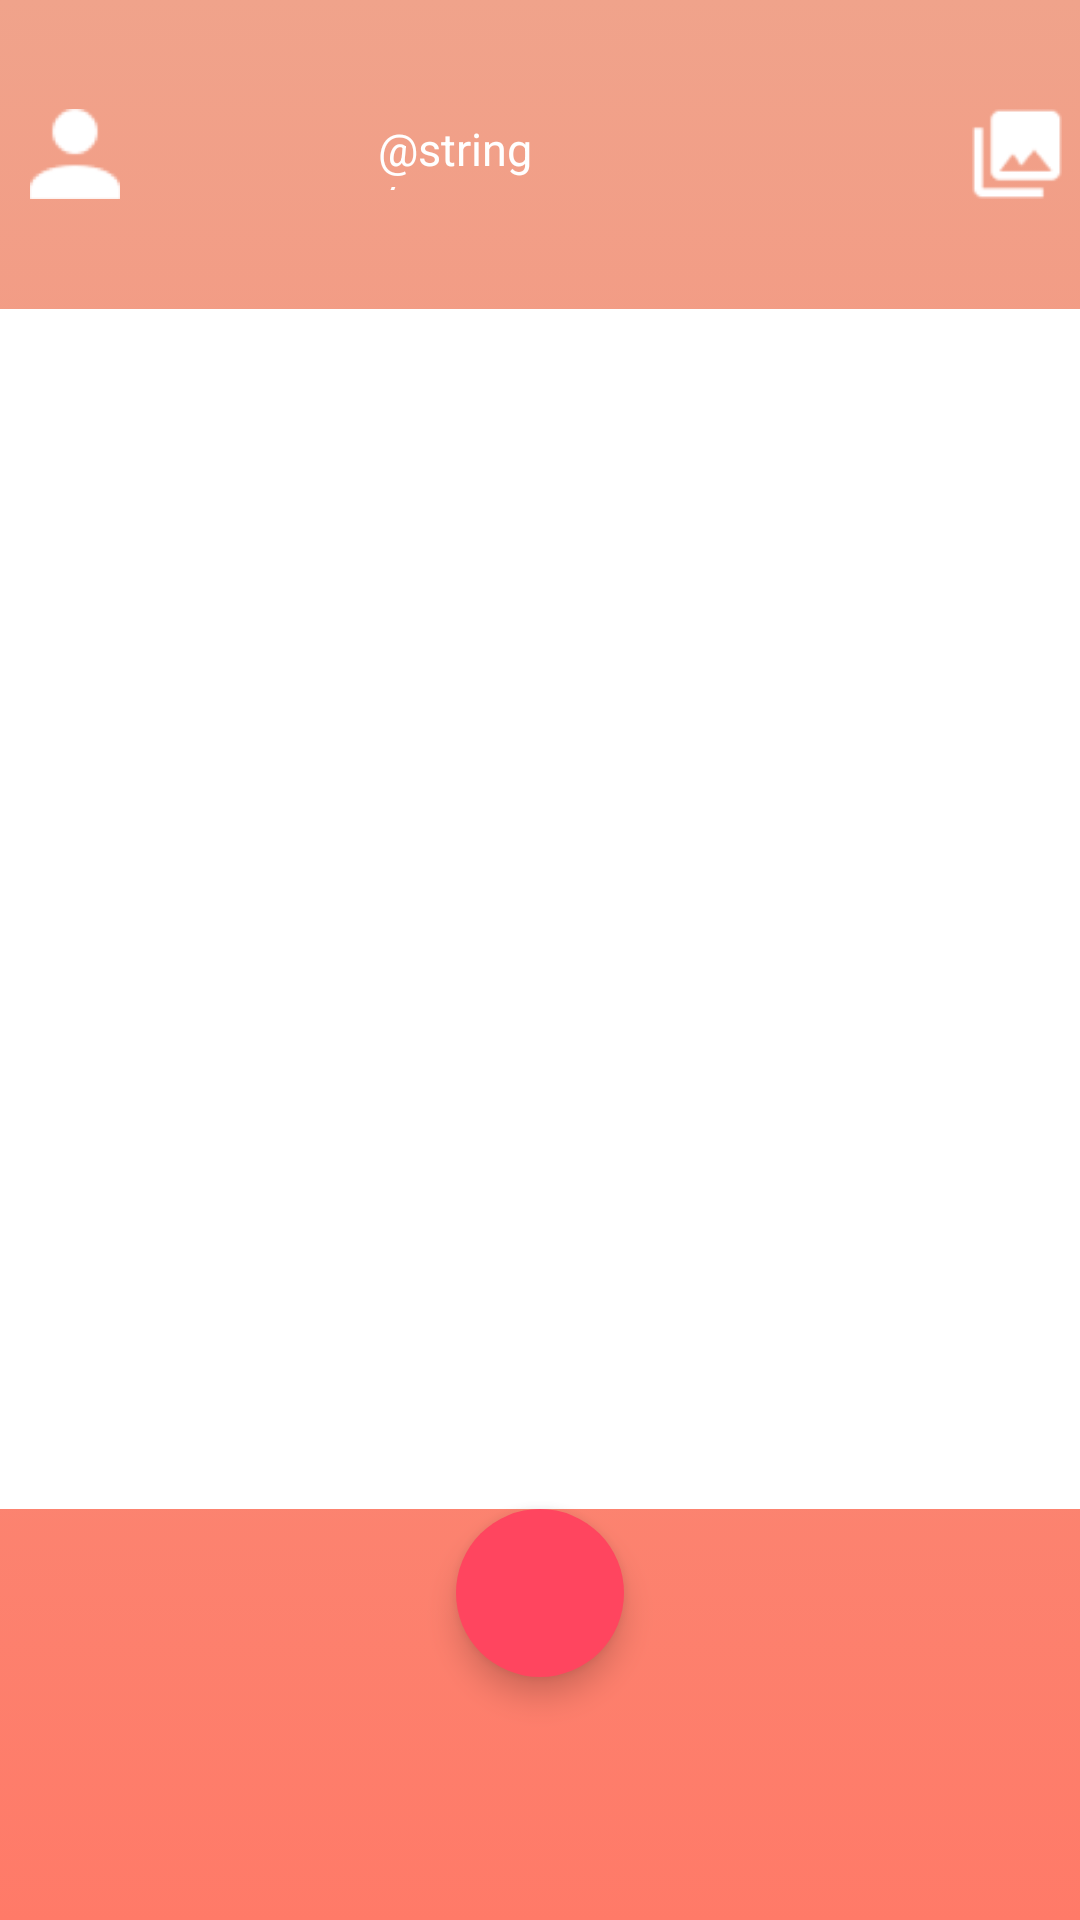

Where to tap for icons on this 1080x1920 app screen, as (x=x, y=y):
account: (x=75, y=154)
